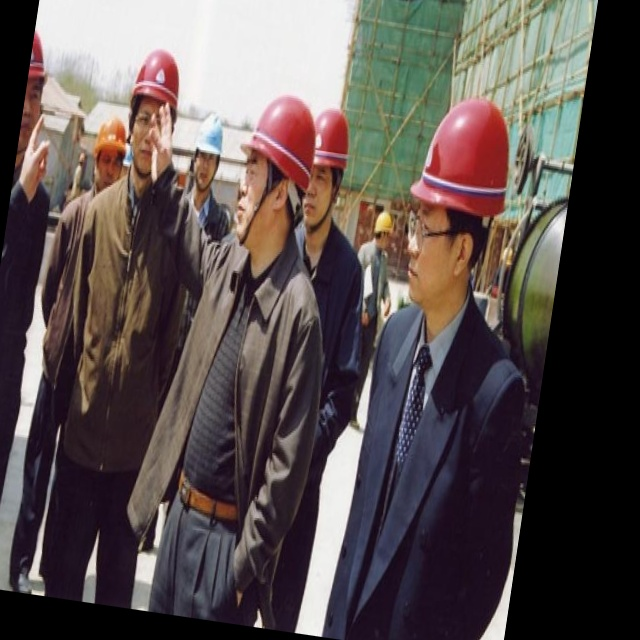Con_Casco: (395, 94, 514, 317), (230, 92, 322, 242)
Sin_Chaleco: (334, 305, 545, 640), (153, 231, 332, 552)
